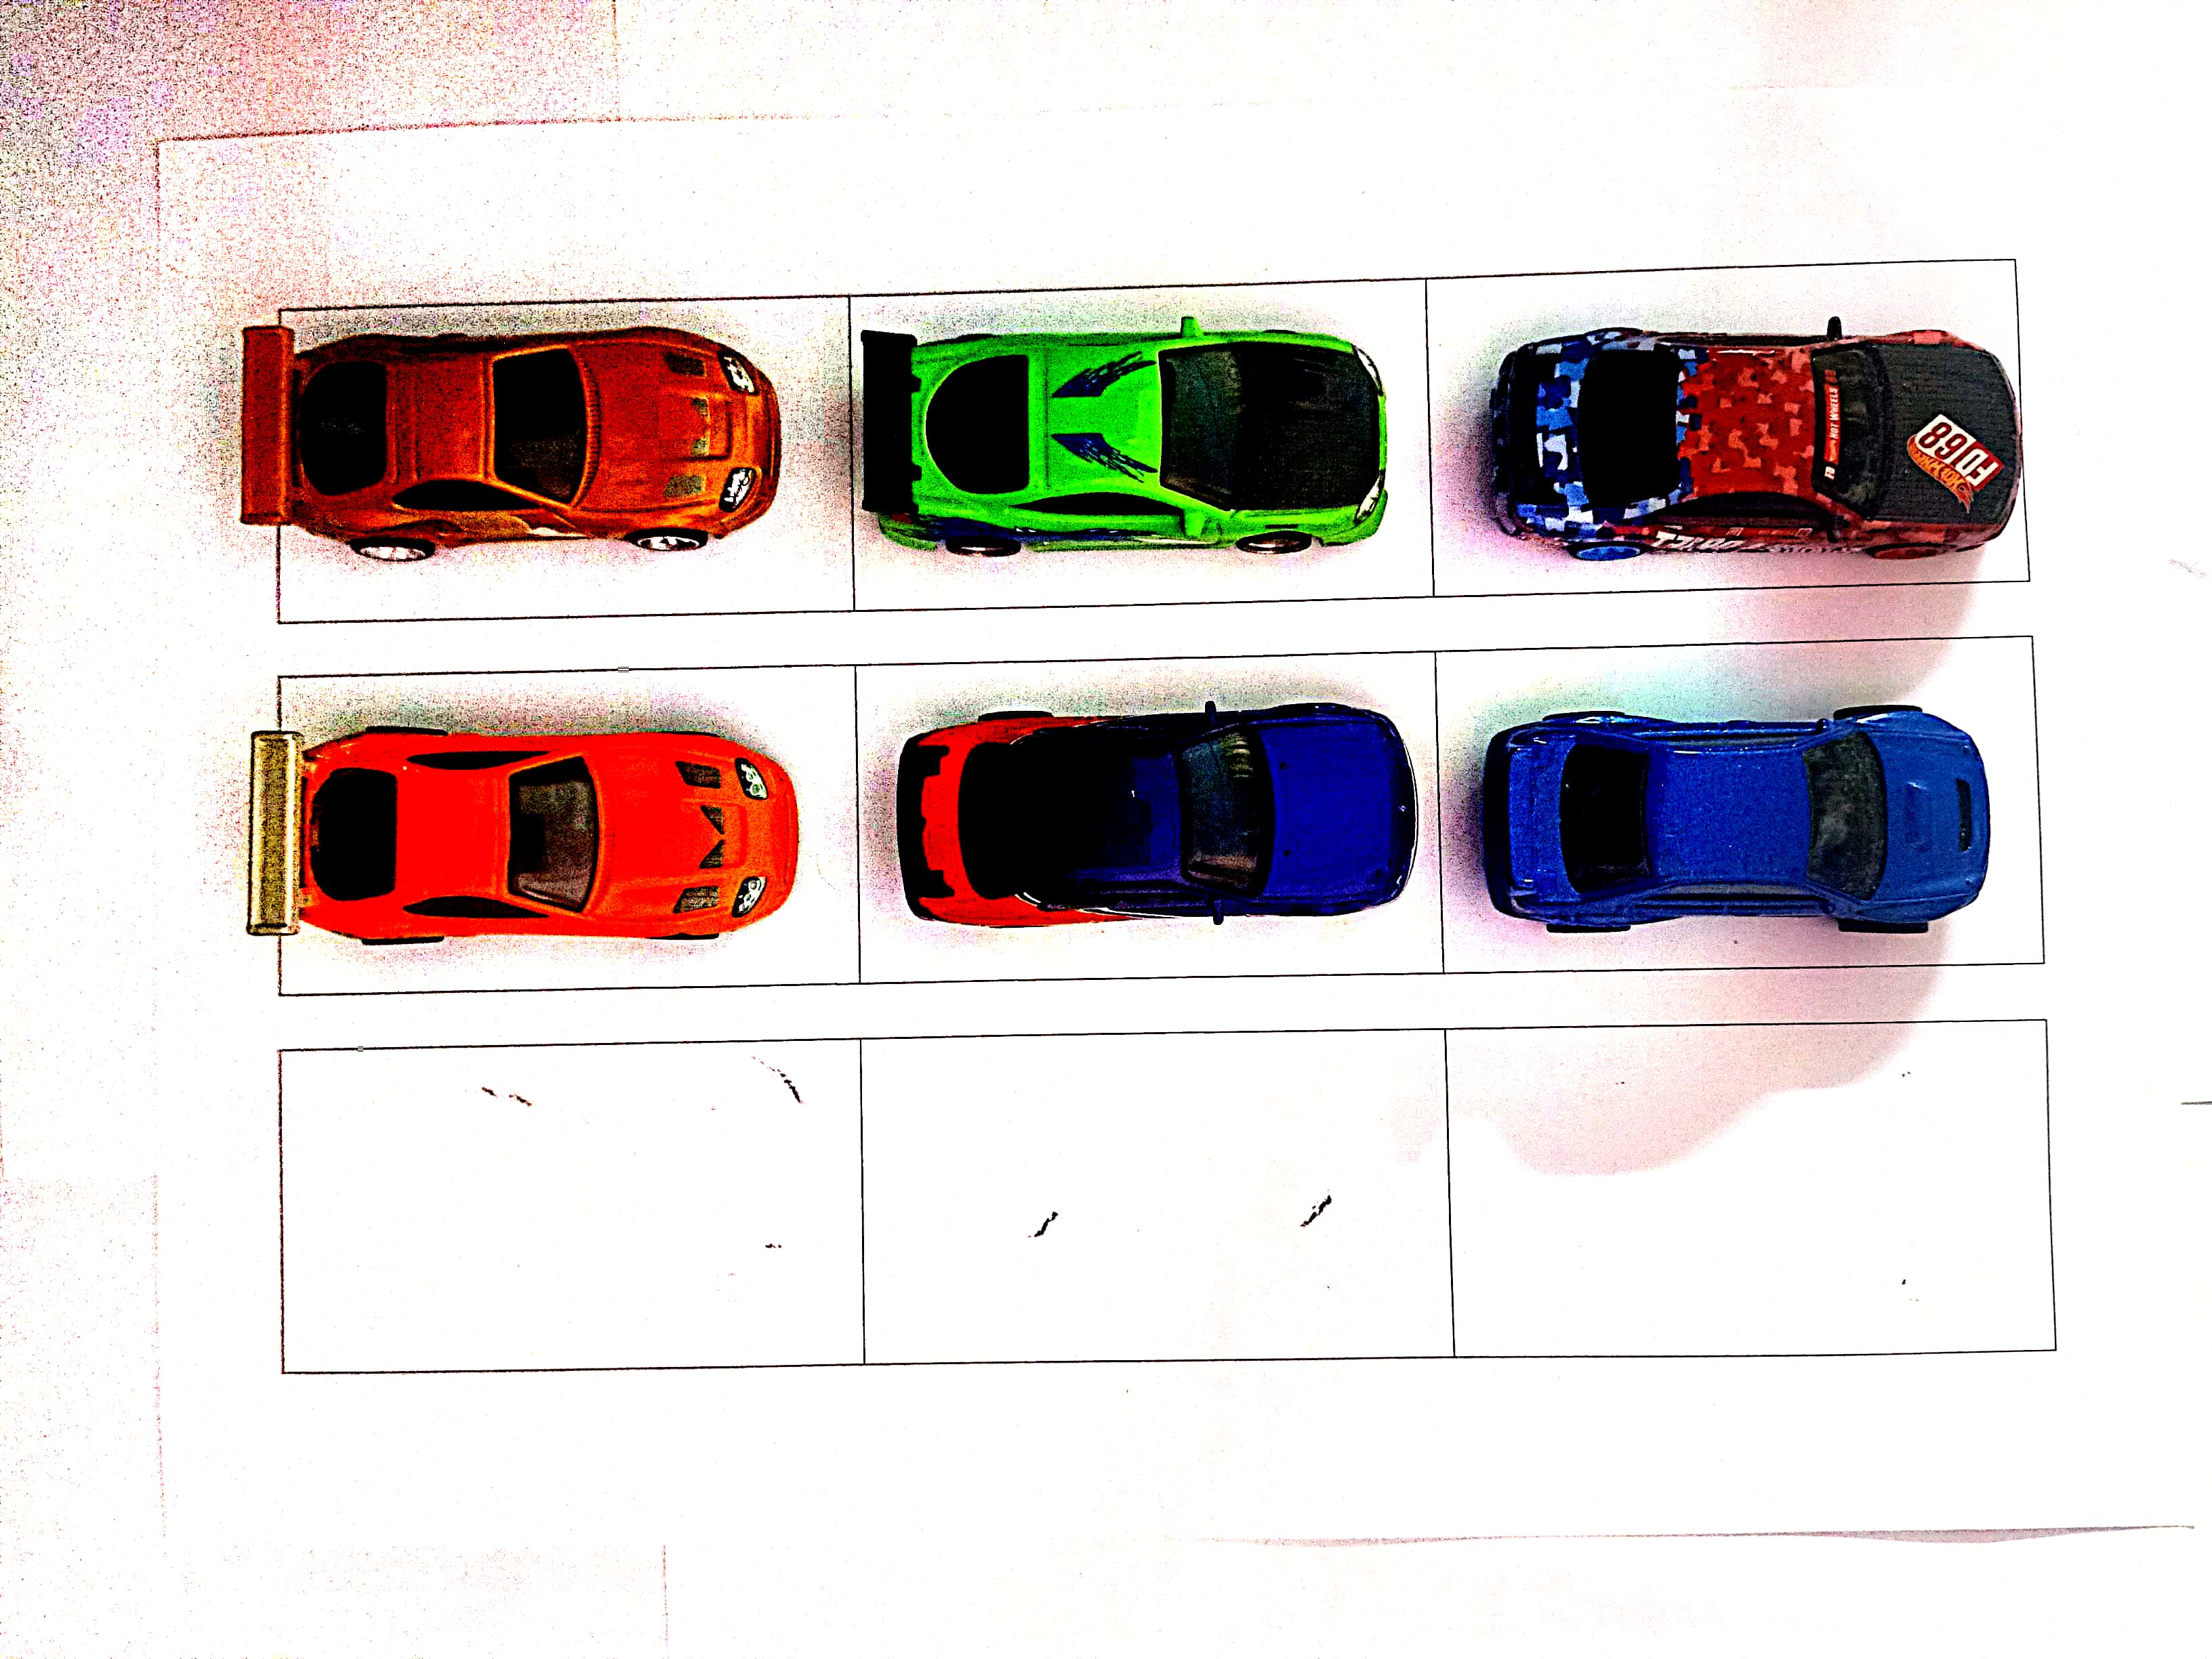Busy: (1447, 629, 2033, 967), (1437, 274, 2052, 580), (266, 655, 853, 965), (848, 289, 1432, 596), (862, 664, 1428, 976), (279, 307, 852, 613)
Free: (873, 1016, 1453, 1352), (272, 1033, 864, 1358), (1456, 1030, 2047, 1347)
